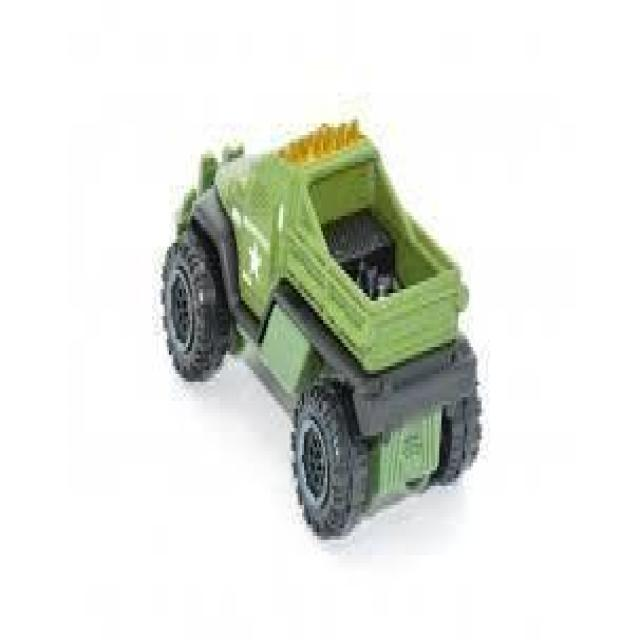Tanks: (167, 129, 481, 511)
